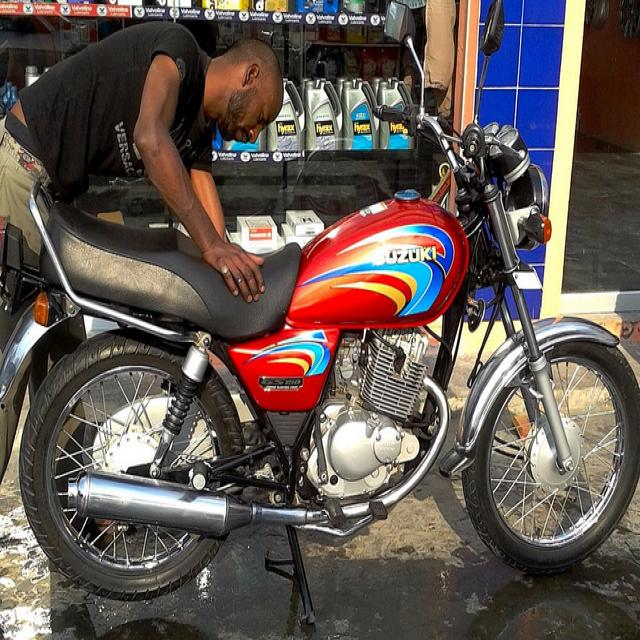motor: (0, 1, 640, 628)
